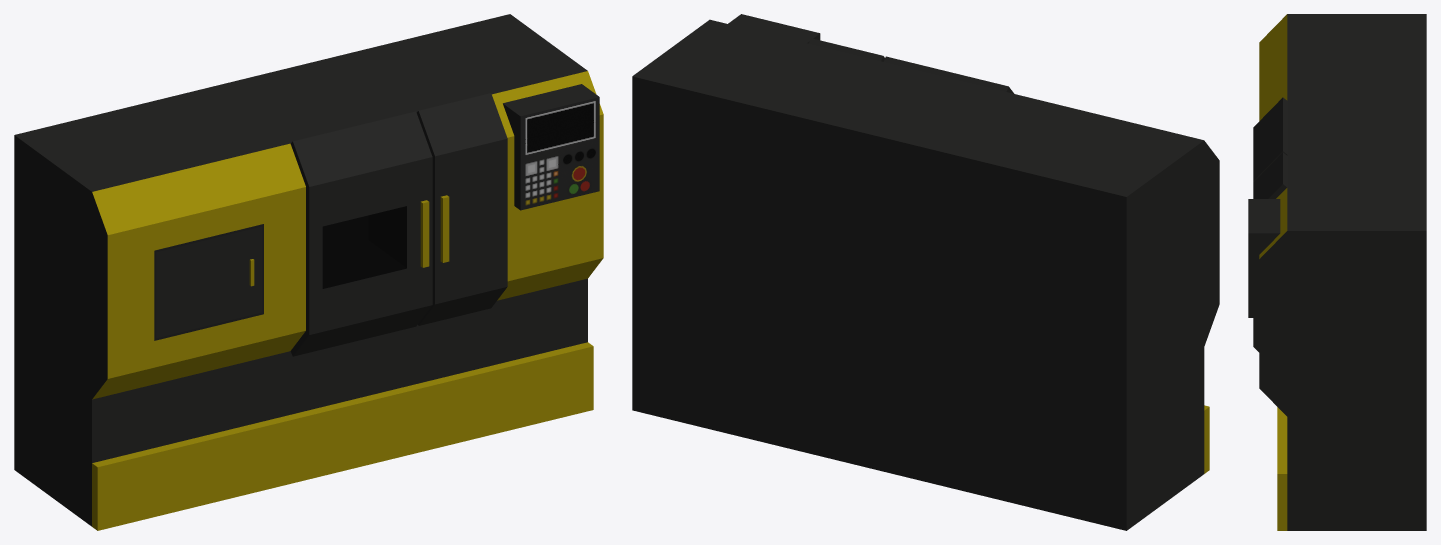
Rendered from Reployer.fbx.
3 views of the same model, side by side, from view 1: azimuth 30°, elevation 25°; view 2: azimuth 150°, elevation 25°; view 3: azimuth 270°, elevation 25° (orthographic). The views are drawn at different scales.
Parts seen in each view (by area): view 1: Reployer; view 2: Reployer; view 3: Reployer.
Part boxes in pixels (box(x1,y1,x2,y2)): Reployer: box(14, 14, 603, 530); Reployer: box(632, 14, 1219, 530); Reployer: box(1248, 14, 1426, 530).
Bounding box in the file's own units: 5 × 1.74 × 3.26.
